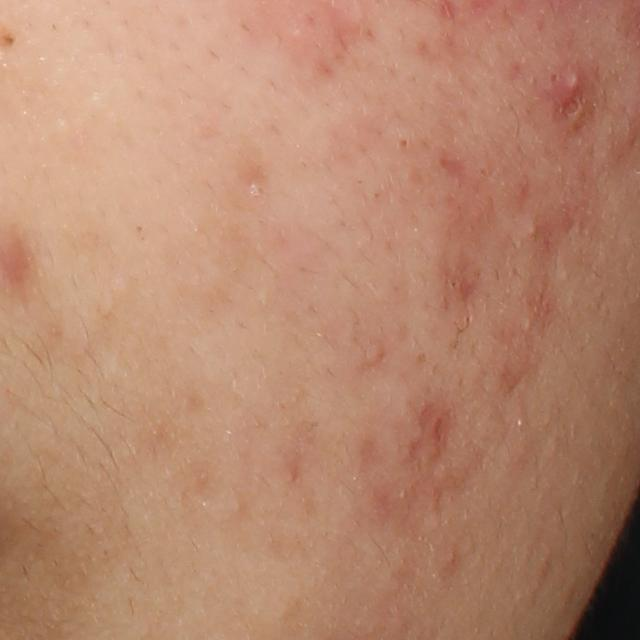atrophic_scar: (440, 155, 472, 187)
comedo: (396, 135, 412, 153), (524, 221, 539, 239)
pustule: (546, 59, 593, 107)
